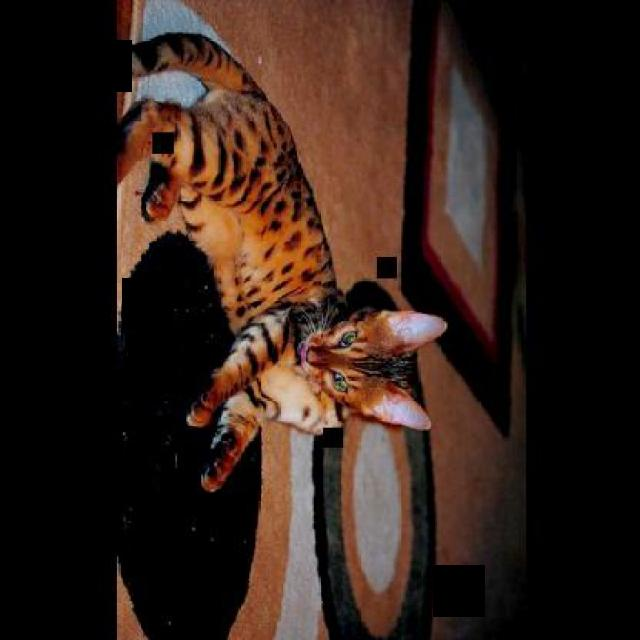unauthorized: (114, 29, 446, 494)
